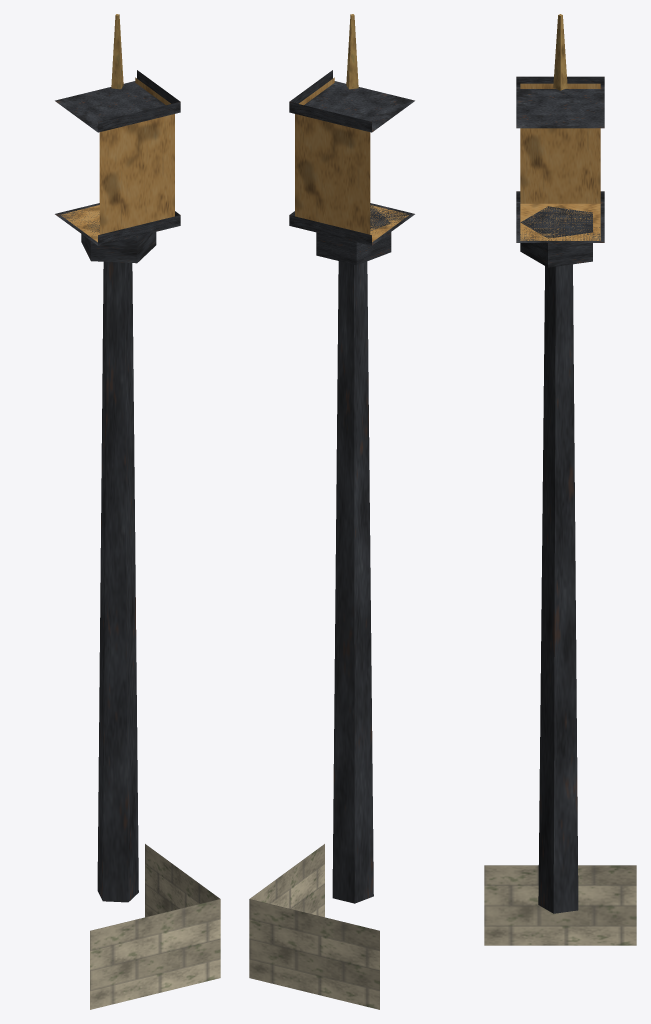
The model's file is prop_haven_lamp_a_lod2.glb.
3 views of the same model, side by side, from view 1: azimuth 30°, elevation 25°; view 2: azimuth 150°, elevation 25°; view 3: azimuth 270°, elevation 25° (orthographic).
Visible parts, largest first — view 1: prop_haven_lamp_a_lod2; view 2: prop_haven_lamp_a_lod2; view 3: prop_haven_lamp_a_lod2.
Boxes of the visible parts, x1,y1,x2,y2 form: prop_haven_lamp_a_lod2: [55, 14, 220, 1009]; prop_haven_lamp_a_lod2: [249, 14, 414, 1009]; prop_haven_lamp_a_lod2: [484, 14, 636, 945].
Size of the model in its own units: 0.38 by 2.64 by 0.38.
1 material, 1 textured.
